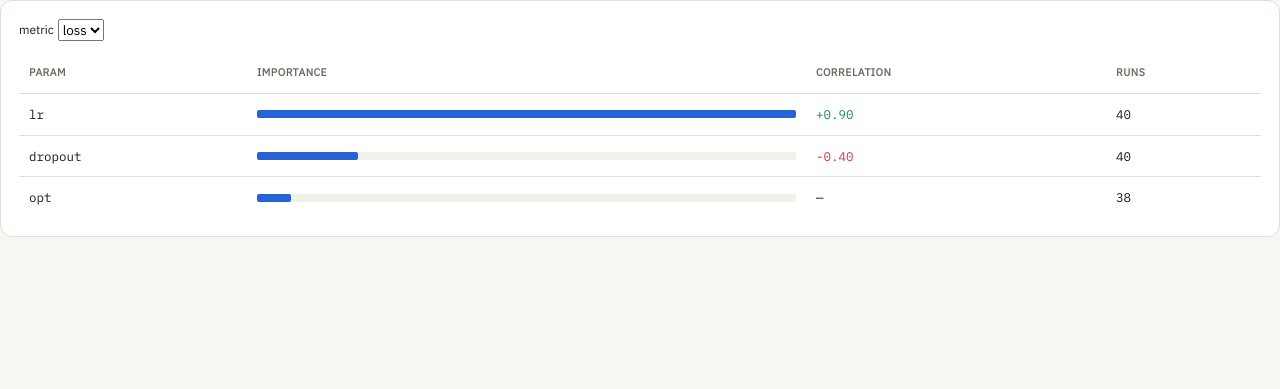
Test: ParamImportance › clicking a categorical param shows the metric's mean per value
Click the text "opt" at x=40, y=197, box [19, 177, 247, 218]
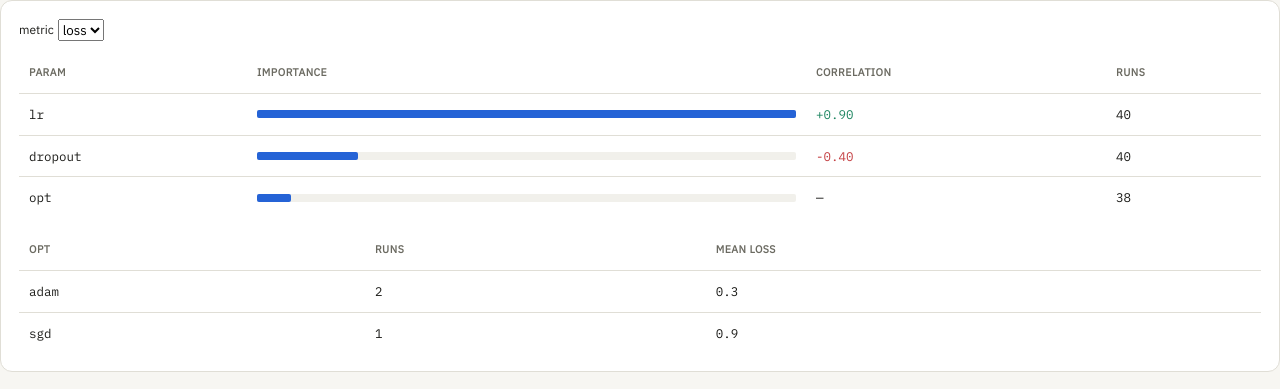
Now the elements with test id "importance-value" read "adam", "sgd", in this order, box [19, 270, 365, 312]; [19, 312, 365, 353]
Now the text "0.3" is shown, box [706, 270, 1261, 312]
